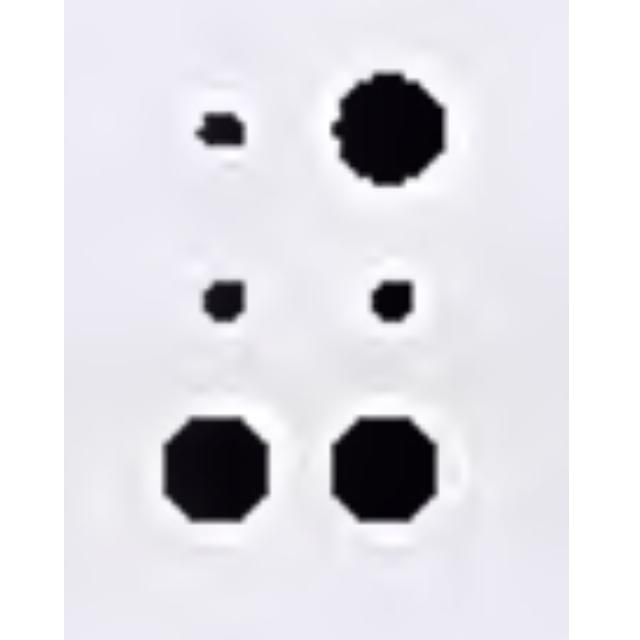one_cell_non_alphabet_ingay: (162, 63, 445, 522)
